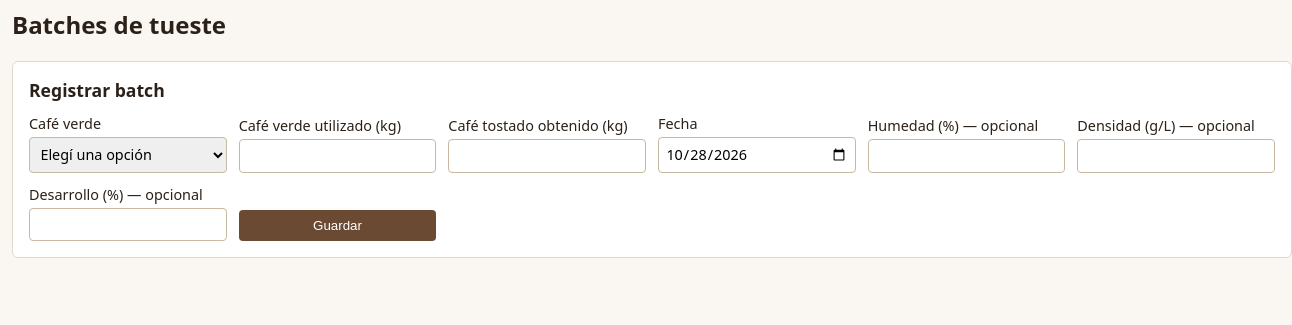
Scenario: Página de batches › muestra el stock disponible y el requerido cuando la API responde 409
Select "Colombia" in the dropdown at coordinates (128, 155), box [29, 137, 227, 173]
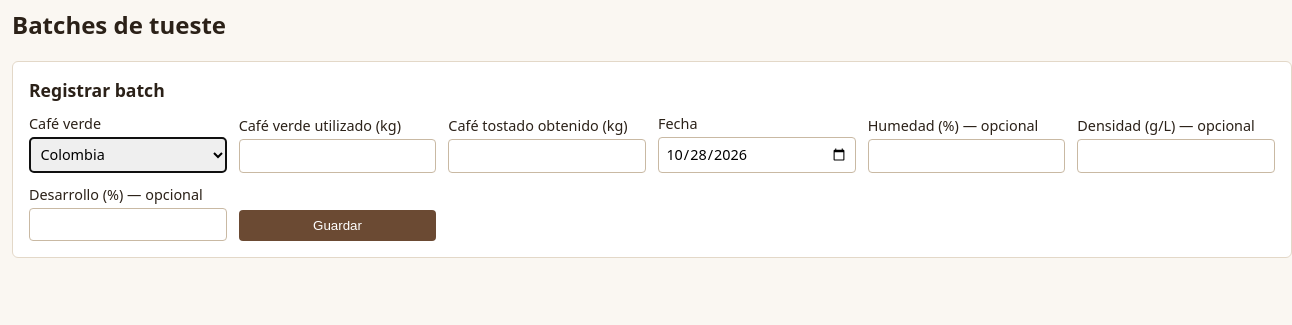
Type "5,25" into the field labelled "Café verde utilizado (kg)" at coordinates (338, 156), box [239, 139, 436, 173]
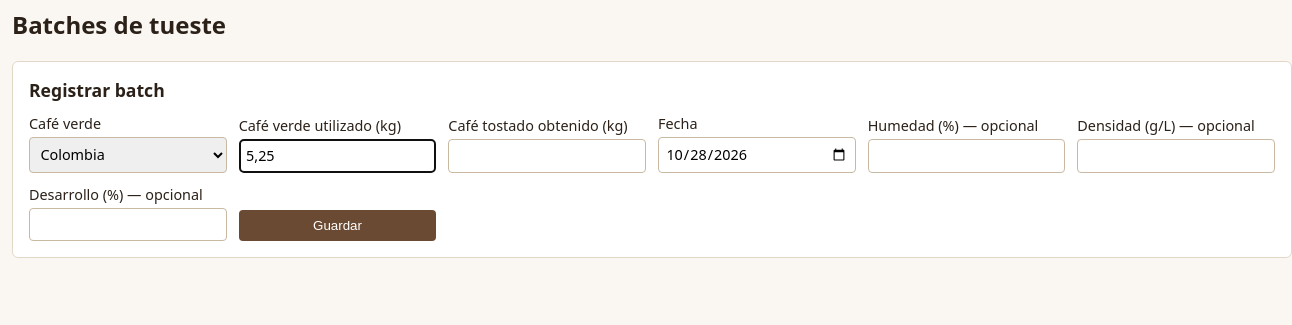
Type "4.5" into the field labelled "Café tostado obtenido (kg)" at coordinates (547, 156), box [448, 139, 646, 173]
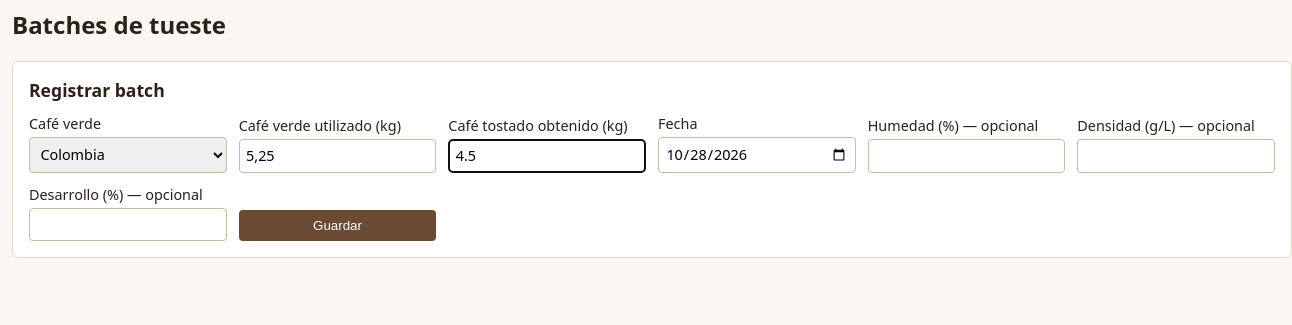
Click the button "Guardar" at coordinates (338, 226), box [239, 210, 436, 241]
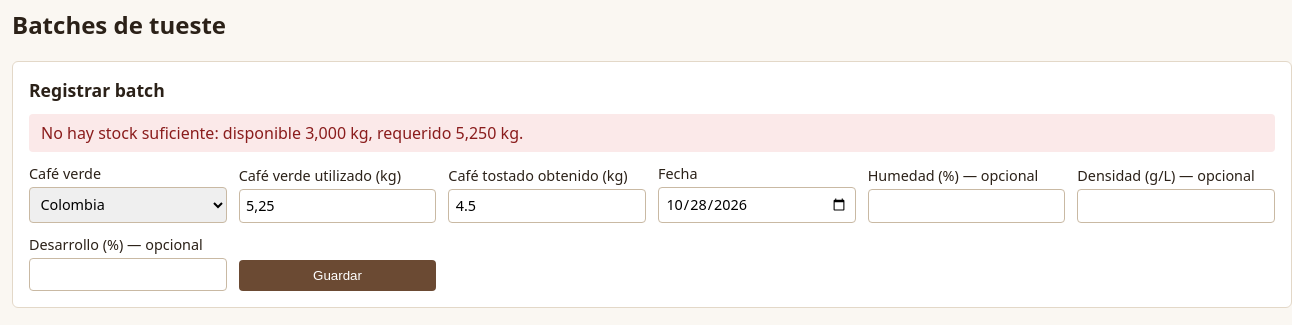
Result: the message reads "No hay stock suficiente: disponible 3,000 kg, requerido 5,250 kg." at [41, 122, 523, 144]
